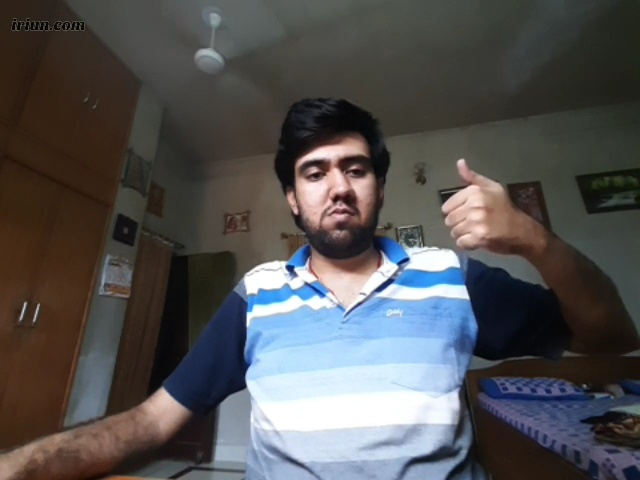Ok: (440, 158, 523, 251)
